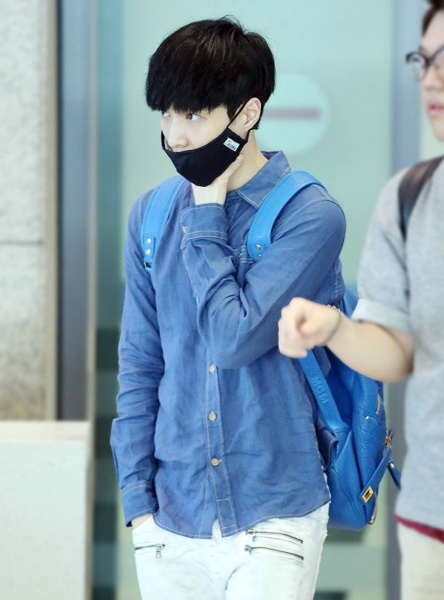face: (416, 15, 443, 139)
face_mask: (158, 61, 235, 185)
